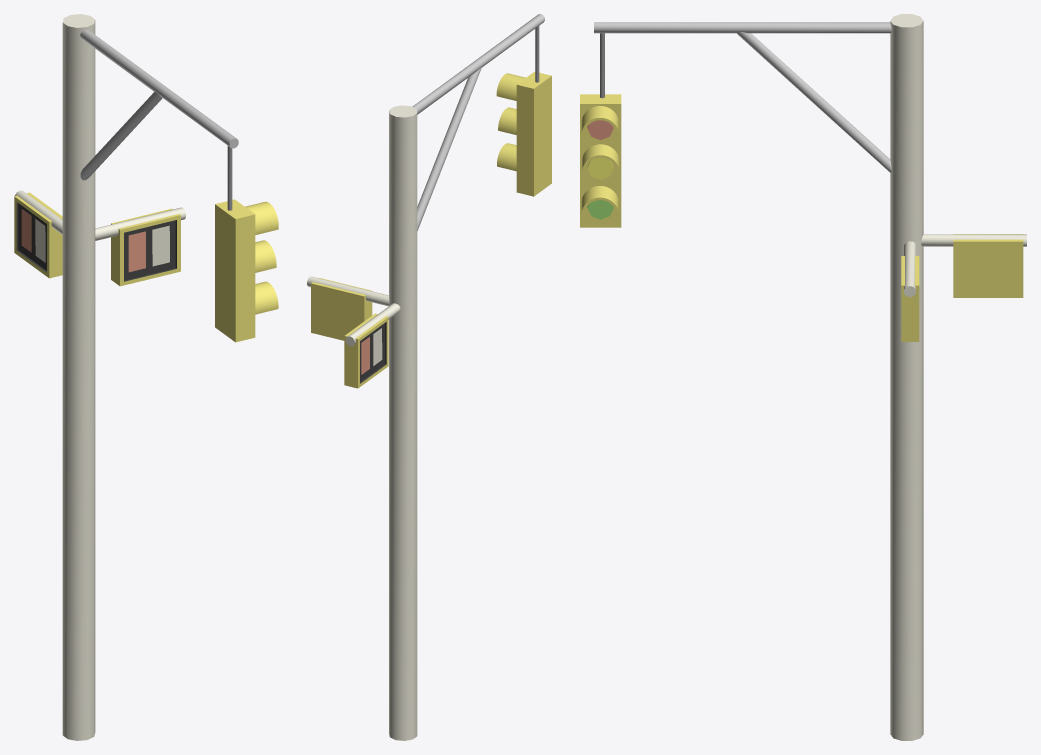
The model's file is props13.fbx.
The picture shows the model from 3 angles, left to right: view 1: azimuth 30°, elevation 25°; view 2: azimuth 150°, elevation 25°; view 3: azimuth 270°, elevation 25°; orthographic projection. The views are drawn at different scales.
Visible parts, largest first — view 1: Null; view 2: Null; view 3: Null.
Part boxes in pixels (left/top/right/bottom): Null: left=14, top=14, right=278, bottom=740; Null: left=307, top=14, right=551, bottom=740; Null: left=580, top=14, right=1026, bottom=740.
Bounding box in the file's own units: 165 × 945 × 536.
